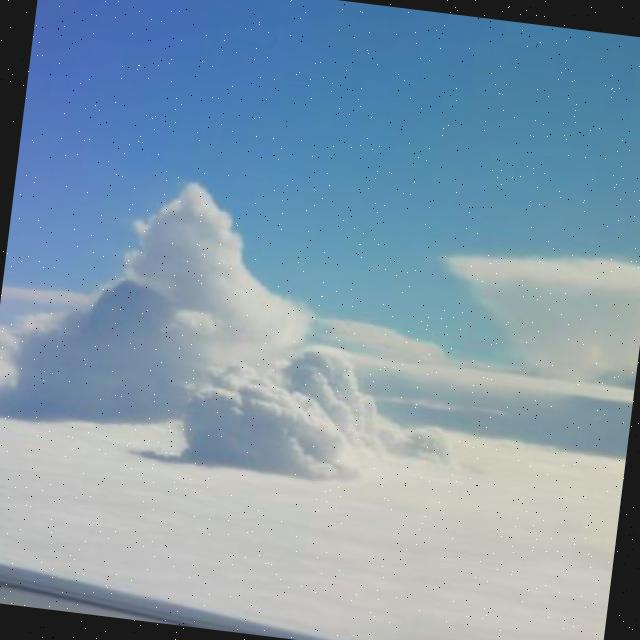Cb: (1, 149, 640, 602)
